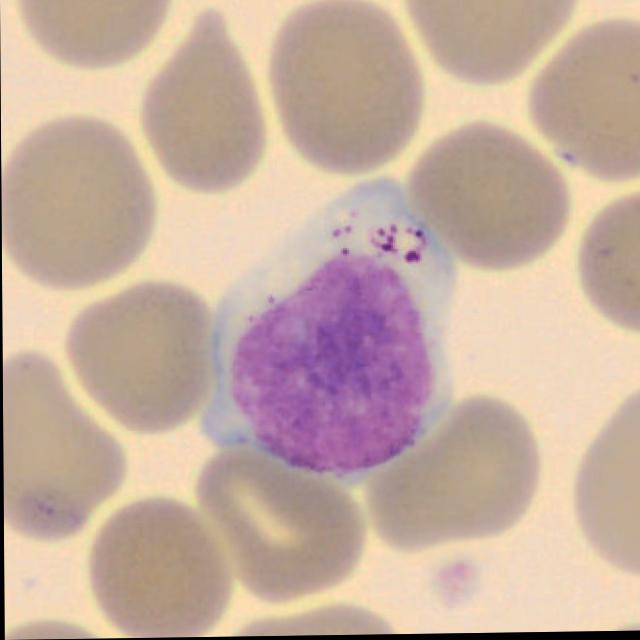Linfocito atipico: (204, 176, 460, 472)
